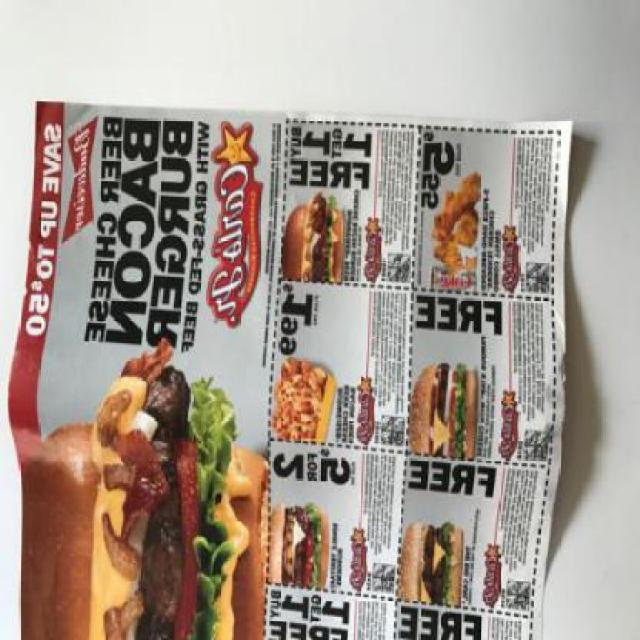PAPER: (0, 99, 572, 638)
